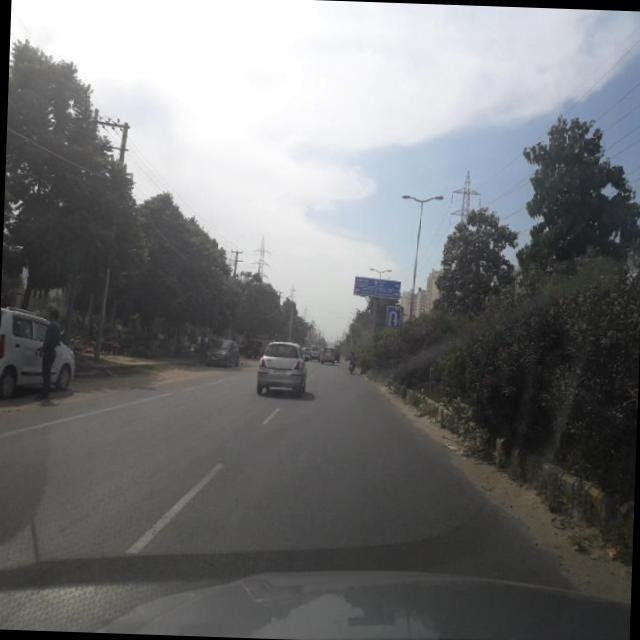crack: (0, 412, 530, 568)
